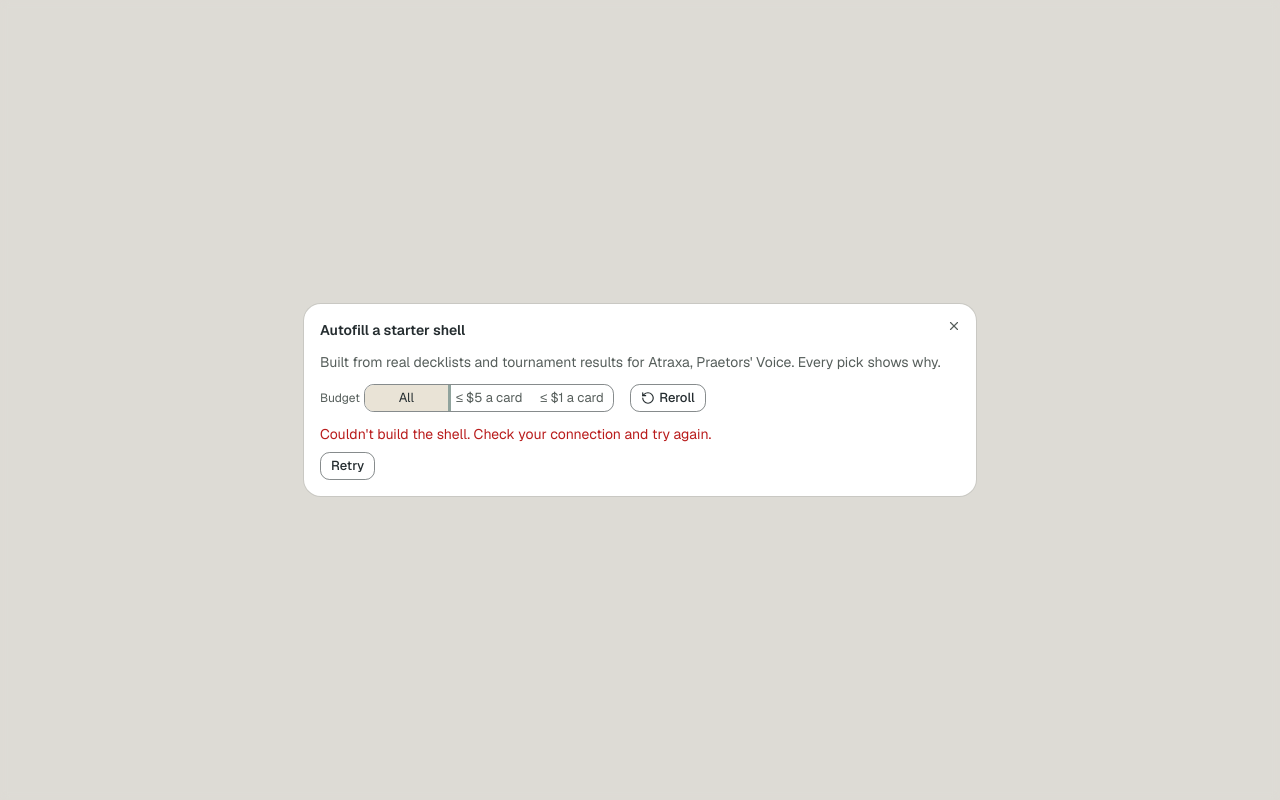
Test: AutofillSheet › a failed POST renders the sentence + an enabled Retry that re-POSTs
Expected: the text "Couldn't build the shell" is shown, x1=320 y1=425 x2=711 y2=443
Click the button "Retry" at (348, 466), box x1=320 y1=452 x2=375 y2=480
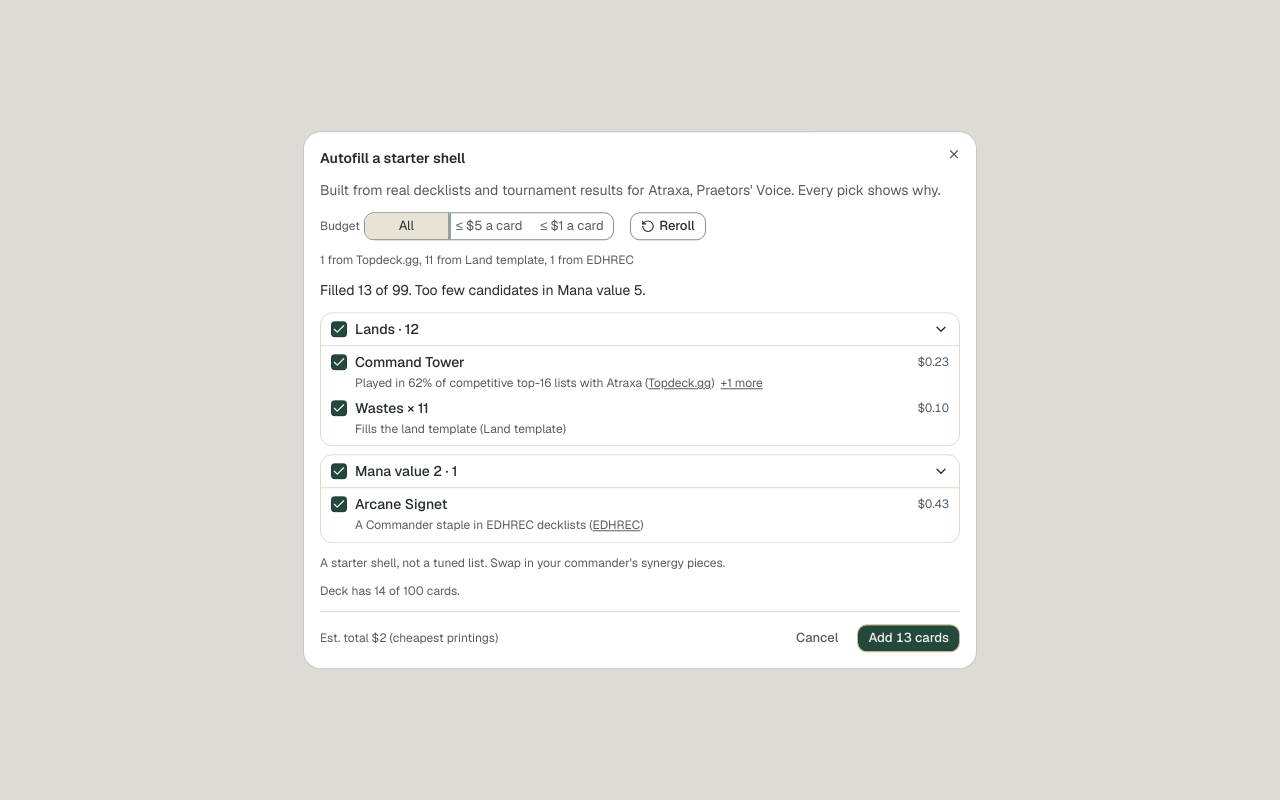
Expected: the text "Lands · 12" is shown, x1=355 y1=320 x2=419 y2=338
